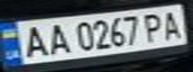0: (69, 18, 97, 52)
2: (90, 16, 112, 51)
6: (106, 15, 130, 47)
7: (121, 12, 145, 46)
A: (18, 22, 51, 60), (42, 20, 72, 56), (157, 8, 187, 41)
P: (139, 10, 169, 43)
